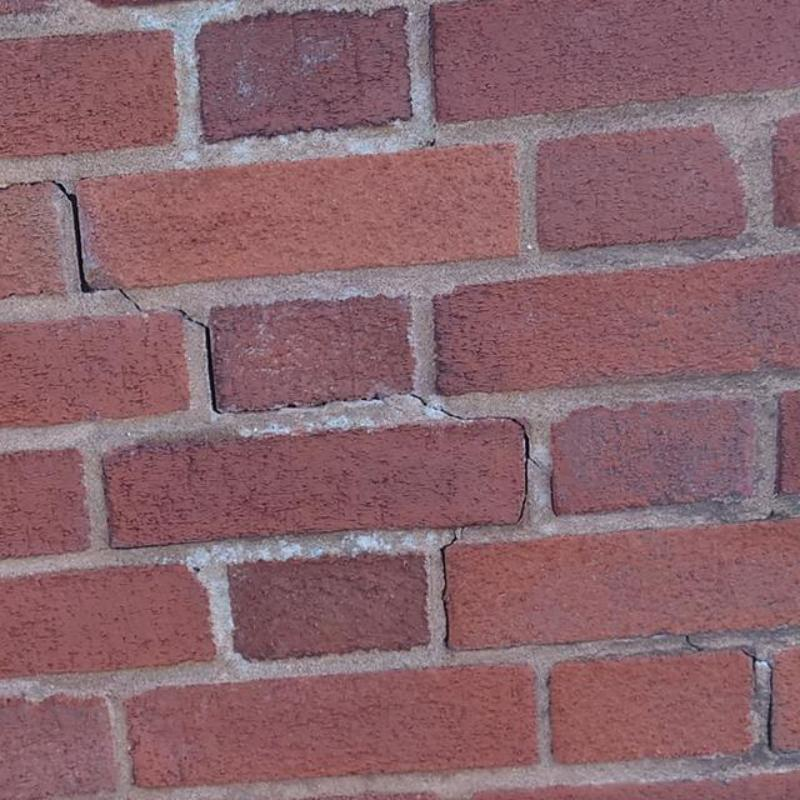pothole: (177, 309, 388, 416), (0, 180, 114, 293), (437, 407, 539, 526), (439, 529, 458, 652), (760, 659, 774, 750), (740, 648, 761, 694), (118, 288, 144, 312), (550, 475, 559, 518), (686, 635, 706, 652), (408, 393, 428, 406), (460, 526, 465, 540)
